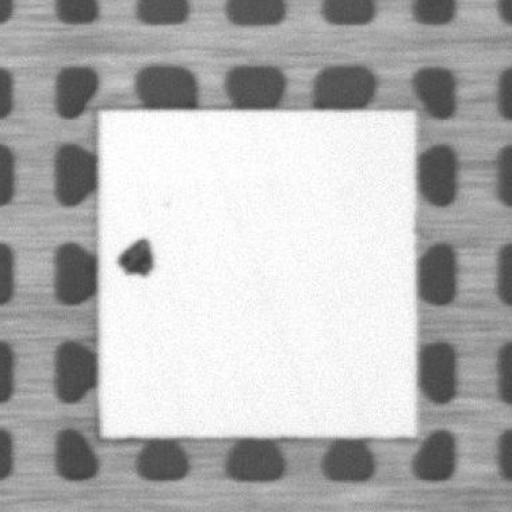DIE_INK: (115, 237, 152, 275)
